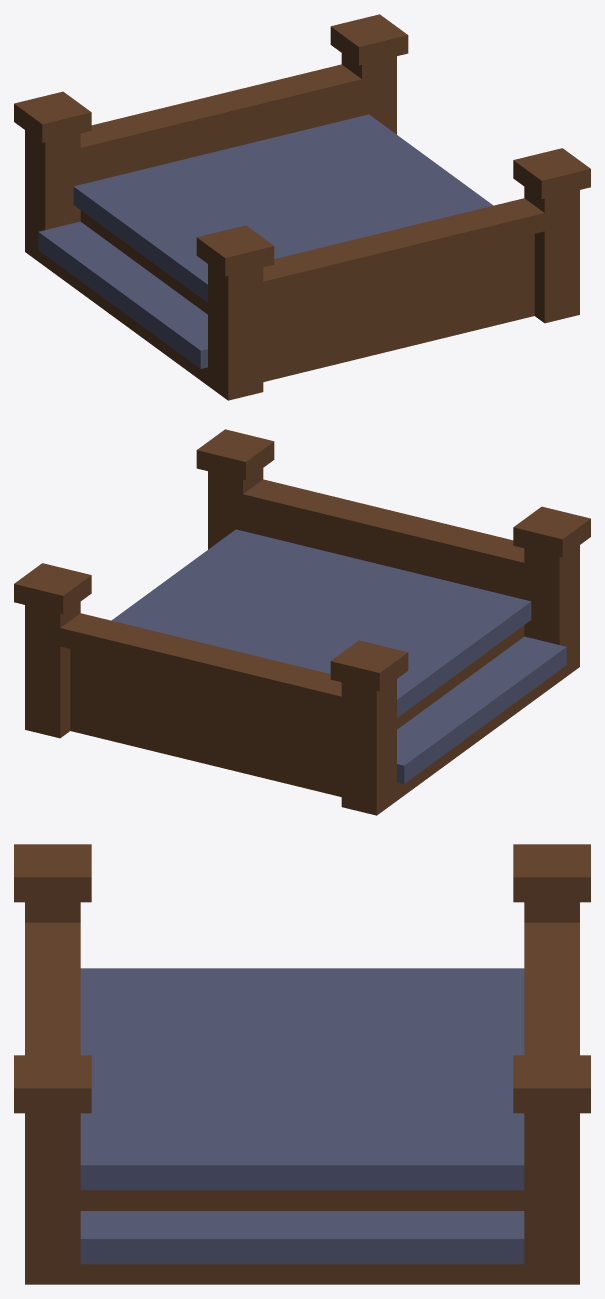
The model's file is kenney_nature-kit__bridge_wood__cave.fbx.
3 views of the same model, one above another, from view 1: azimuth 30°, elevation 25°; view 2: azimuth 150°, elevation 25°; view 3: azimuth 270°, elevation 25° (orthographic). The views are drawn at different scales.
Visible parts, largest first — view 1: kenney_nature-kit__bridge_wood__cave_woodbark_wood, kenney_nature-kit__bridge_wood__cave_stone, kenney_nature-kit__bridge_wood__cave_wood_wood; view 2: kenney_nature-kit__bridge_wood__cave_woodbark_wood, kenney_nature-kit__bridge_wood__cave_stone, kenney_nature-kit__bridge_wood__cave_wood_wood; view 3: kenney_nature-kit__bridge_wood__cave_stone, kenney_nature-kit__bridge_wood__cave_woodbark_wood, kenney_nature-kit__bridge_wood__cave_wood_wood.
Boxes of the visible parts, x1,y1,x2,y2 form: kenney_nature-kit__bridge_wood__cave_woodbark_wood: (25,53,579,400); kenney_nature-kit__bridge_wood__cave_stone: (38,114,493,368); kenney_nature-kit__bridge_wood__cave_wood_wood: (14,14,590,381); kenney_nature-kit__bridge_wood__cave_woodbark_wood: (25,468,579,815); kenney_nature-kit__bridge_wood__cave_stone: (111,529,566,783); kenney_nature-kit__bridge_wood__cave_wood_wood: (14,429,590,796); kenney_nature-kit__bridge_wood__cave_stone: (80,968,524,1264); kenney_nature-kit__bridge_wood__cave_woodbark_wood: (25,902,579,1284); kenney_nature-kit__bridge_wood__cave_wood_wood: (14,844,590,1113).
Bounding box in the file's own units: 3.71 × 1.43 × 3.71.
2 materials, 2 textured.
